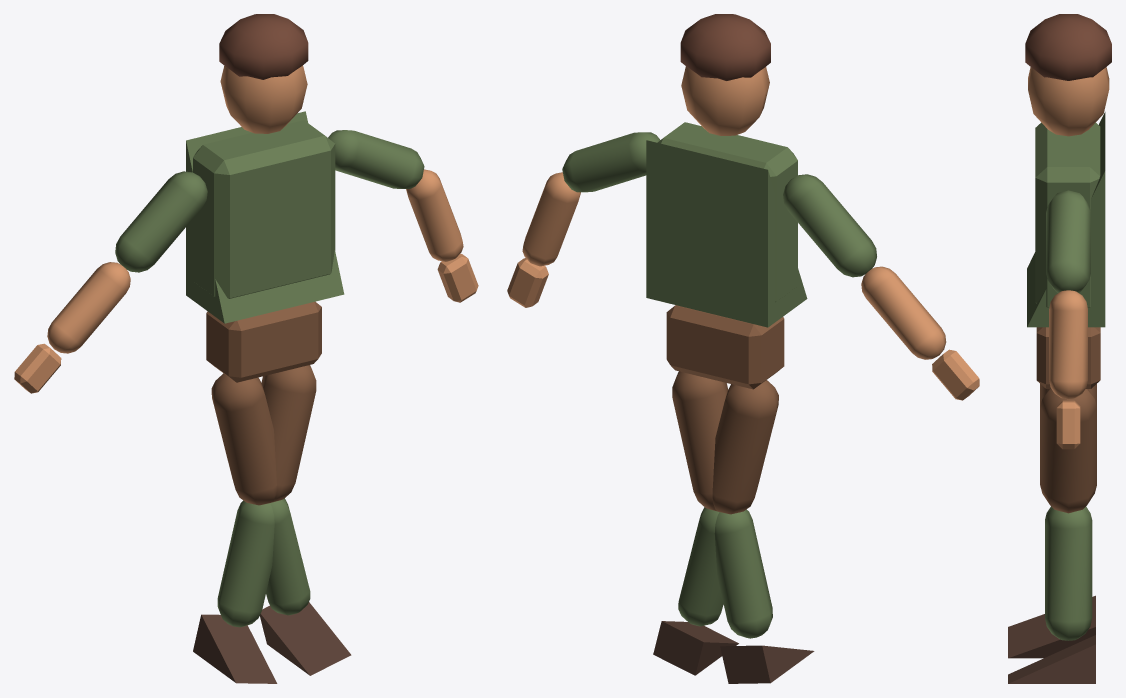
Rendered from adventurer.rustic.glb.
3 views of the same model, side by side, from view 1: azimuth 30°, elevation 25°; view 2: azimuth 150°, elevation 25°; view 3: azimuth 270°, elevation 25° (orthographic).
Parts seen in each view (by area): view 1: torso, pelvis, thigh.left, shin.right, tunic, upper-arm.left, hair, thigh.right, head, forearm.left, upper-arm.right, foot.left (+5 smaller); view 2: tunic, pelvis, thigh.left, torso, shin.right, upper-arm.left, hair, thigh.right, head, forearm.left, upper-arm.right, shin.left (+5 smaller); view 3: shin.left, torso, thigh.right, hair, upper-arm.right, head, forearm.right, tunic, foot.left, foot.right, pelvis, hand.right (+1 smaller).
Boxes of the visible parts, left/top/right/bottom form: torso: left=193, top=120, right=335, bottom=298; pelvis: left=206, top=301, right=321, bottom=382; thigh.left: left=211, top=373, right=276, bottom=505; shin.right: left=217, top=500, right=274, bottom=627; tunic: left=186, top=111, right=344, bottom=323; upper-arm.left: left=115, top=171, right=207, bottom=272; hair: left=219, top=14, right=308, bottom=79; thigh.right: left=261, top=365, right=316, bottom=502; head: left=220, top=65, right=307, bottom=133; forearm.left: left=47, top=262, right=130, bottom=353; upper-arm.right: left=328, top=130, right=424, bottom=188; foot.left: left=260, top=602, right=351, bottom=675; tunic: left=646, top=140, right=807, bottom=327; pelvis: left=666, top=305, right=784, bottom=389; thigh.left: left=712, top=380, right=778, bottom=514; torso: left=657, top=122, right=797, bottom=301; shin.right: left=714, top=509, right=772, bottom=638; upper-arm.left: left=783, top=174, right=876, bottom=277; hair: left=680, top=14, right=770, bottom=80; thigh.right: left=672, top=371, right=728, bottom=511; head: left=681, top=66, right=769, bottom=135; forearm.left: left=861, top=266, right=946, bottom=359; upper-arm.right: left=562, top=132, right=660, bottom=192; shin.left: left=678, top=507, right=723, bottom=626; shin.left: left=1045, top=507, right=1092, bottom=640; torso: left=1035, top=122, right=1100, bottom=307; thigh.right: left=1040, top=389, right=1096, bottom=513; hair: left=1025, top=14, right=1111, bottom=80; upper-arm.right: left=1046, top=190, right=1090, bottom=292; head: left=1028, top=67, right=1109, bottom=136; forearm.right: left=1049, top=290, right=1087, bottom=399; tunic: left=1027, top=112, right=1105, bottom=327; foot.left: left=1008, top=635, right=1095, bottom=683; foot.right: left=1008, top=595, right=1095, bottom=658; pelvis: left=1036, top=327, right=1100, bottom=388; hand.right: left=1056, top=400, right=1080, bottom=449.
Size of the model in its own units: 2.26 by 3.01 by 0.4376.
